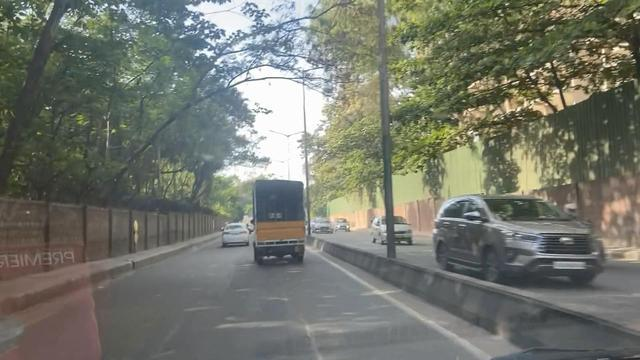HMV: (247, 173, 308, 265)
